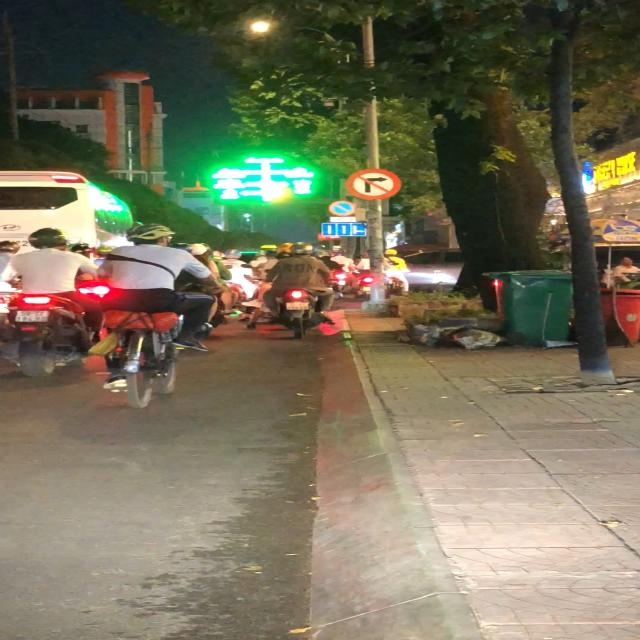Bien bao cam re phai: (344, 168, 406, 202)
